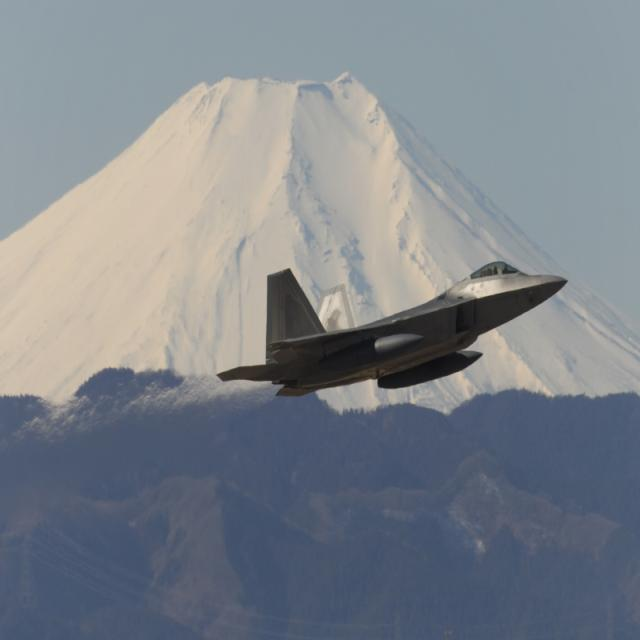MIL_Plane: (215, 260, 568, 398)
